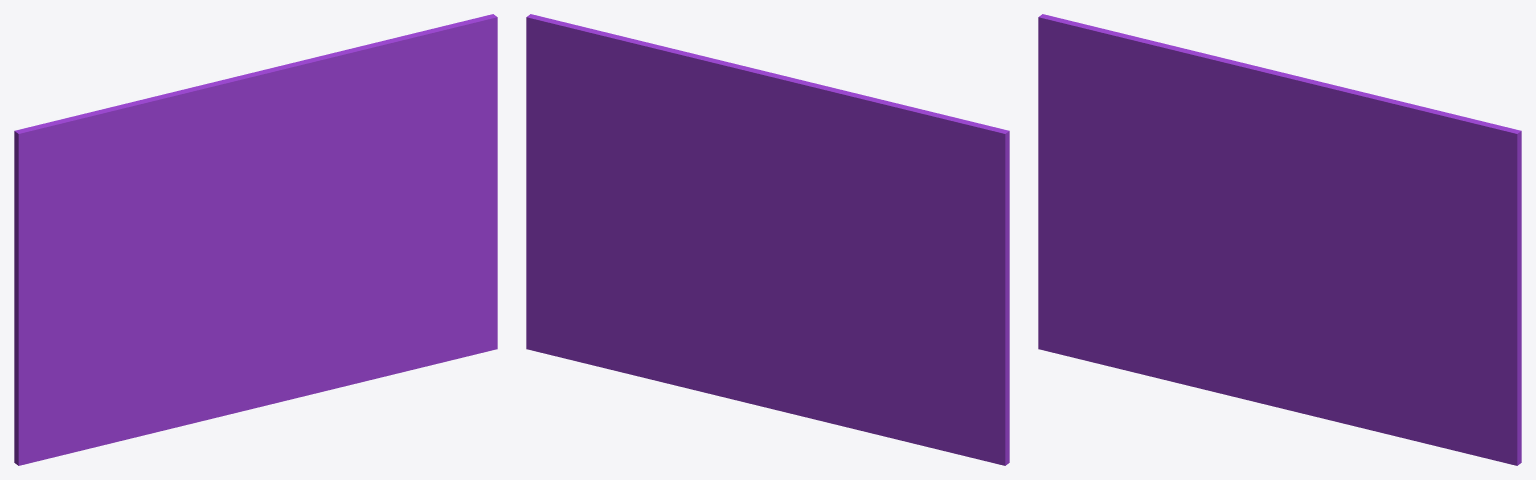
Rendered from Glass_95_chunks.fbx.
The picture shows the model from 3 angles, left to right: view 1: azimuth 30°, elevation 25°; view 2: azimuth 150°, elevation 25°; view 3: azimuth 330°, elevation 25°; orthographic projection.
Visible parts, largest first — view 1: Glass_95_2, Glass_95_3, Glass_95_1; view 2: Glass_95_2, Glass_95_3, Glass_95_1; view 3: Glass_95_2, Glass_95_3, Glass_95_1.
Boxes of the visible parts, bbox=[...] form: Glass_95_2: bbox=[14, 93, 257, 465]; Glass_95_3: bbox=[170, 14, 497, 240]; Glass_95_1: bbox=[159, 192, 497, 431]; Glass_95_2: bbox=[769, 92, 1009, 465]; Glass_95_3: bbox=[526, 14, 852, 239]; Glass_95_1: bbox=[526, 193, 863, 431]; Glass_95_2: bbox=[1038, 14, 1277, 383]; Glass_95_3: bbox=[1195, 52, 1521, 308]; Glass_95_1: bbox=[1179, 241, 1521, 465].
Size of the model in its own units: 1728 by 1144 by 27.2.
